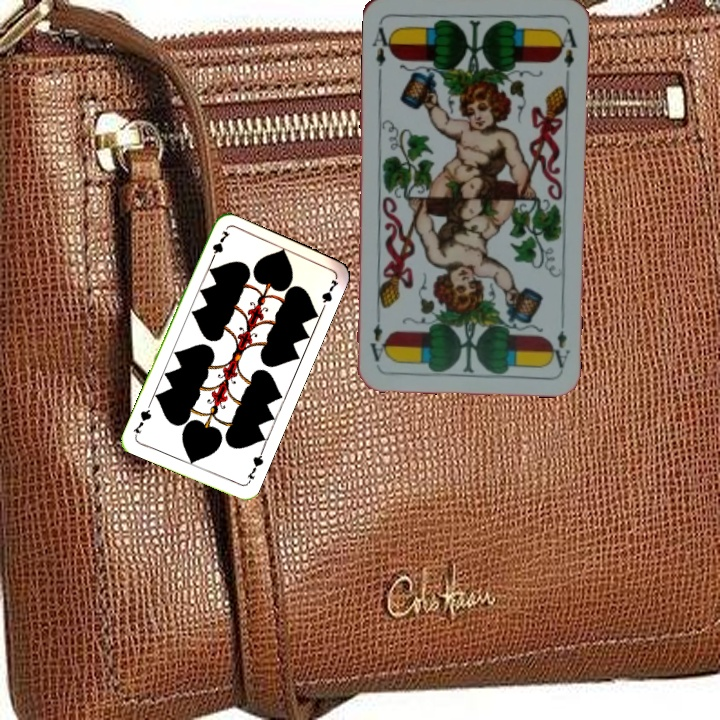EA: (369, 17, 396, 76), (546, 312, 572, 370)
G7: (206, 227, 232, 265), (242, 447, 266, 486)
